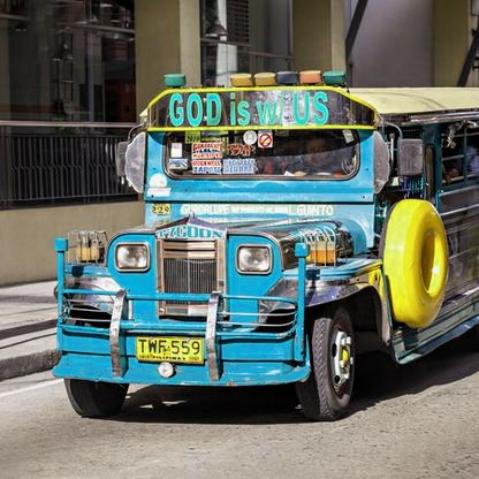jeepney: (41, 66, 479, 431)
